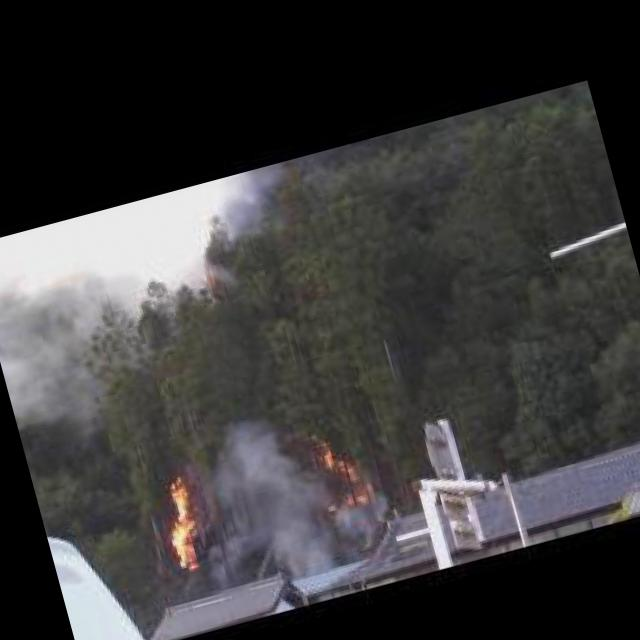fire: (149, 475, 211, 576), (314, 428, 362, 484), (320, 492, 368, 514)
smoke: (188, 401, 334, 594)
